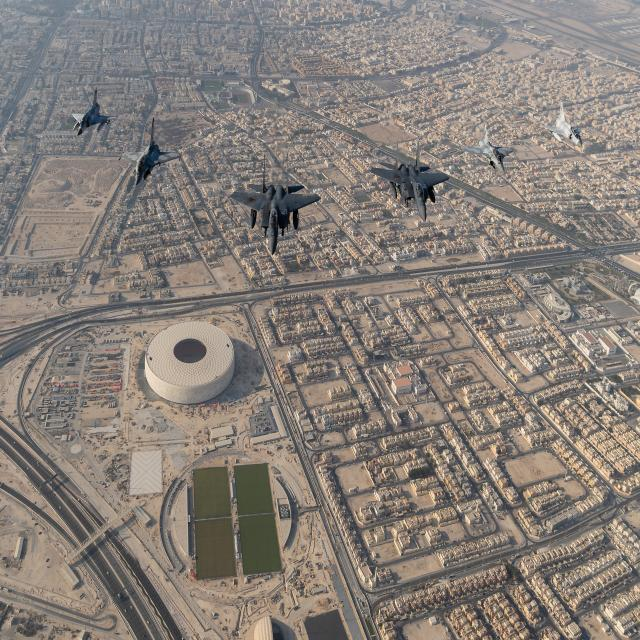MIL_Plane: (230, 152, 322, 256), (369, 128, 450, 230), (118, 116, 182, 186), (458, 115, 516, 175), (72, 86, 116, 136), (541, 102, 583, 148)
